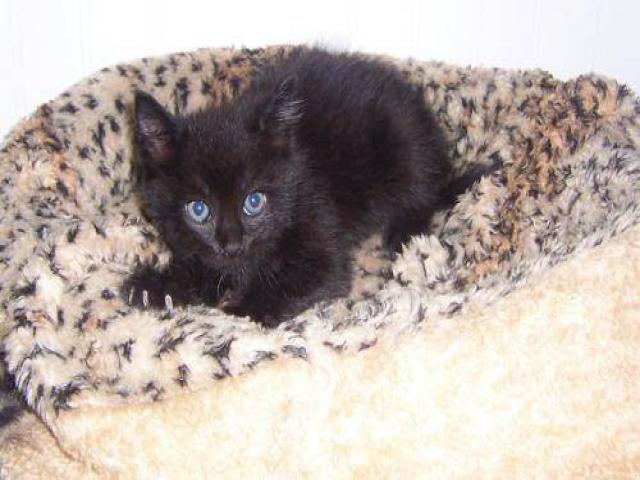cat: (115, 48, 476, 321)
